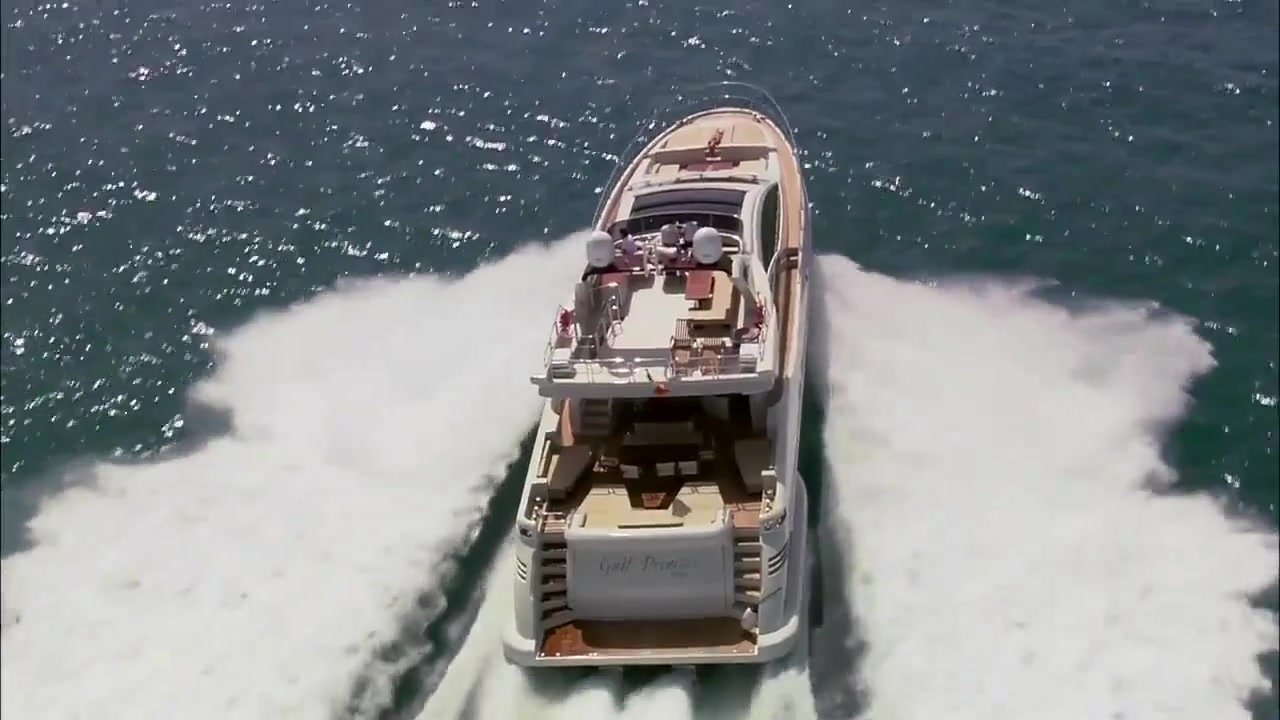boat: (496, 74, 837, 675)
